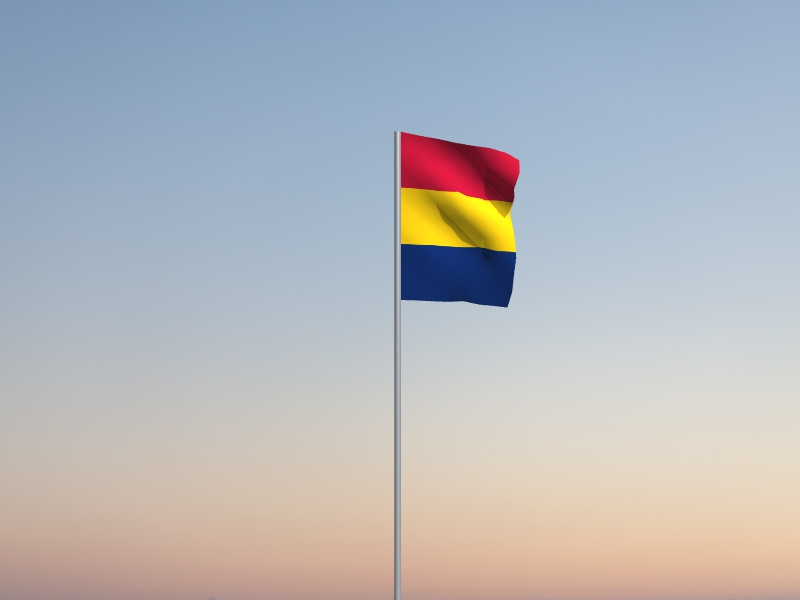td: (401, 133, 522, 309)
